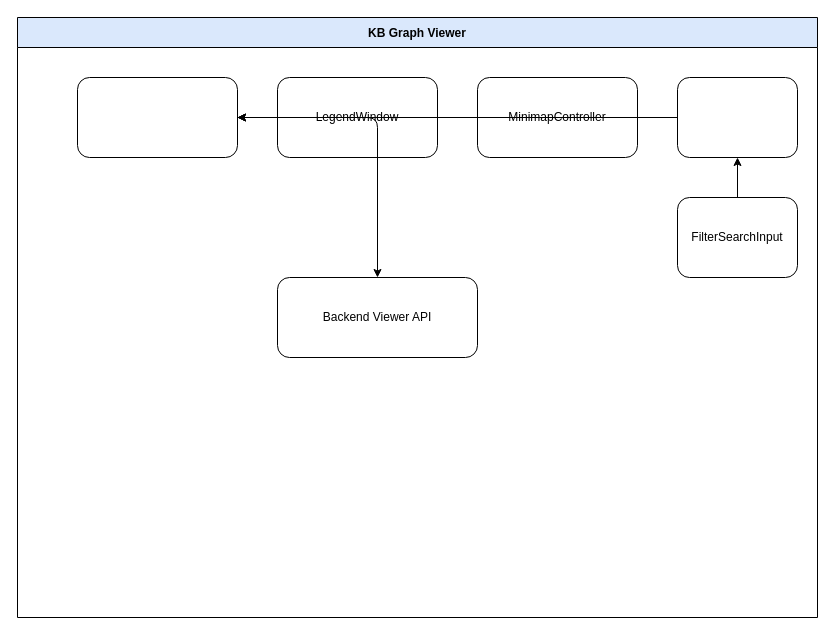
The diagram is 835 pixels wide and 635 high, and some of its shapes have lost their labels. Each missing label, with the centre of its shape:
FilterPanel: (737,117)
GraphRenderer: (157,117)
